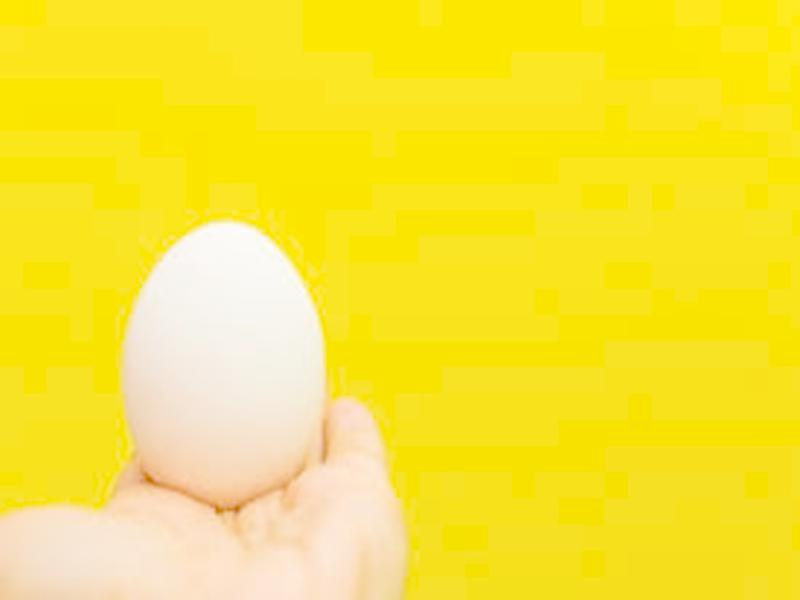Eggs: (131, 220, 323, 505)
